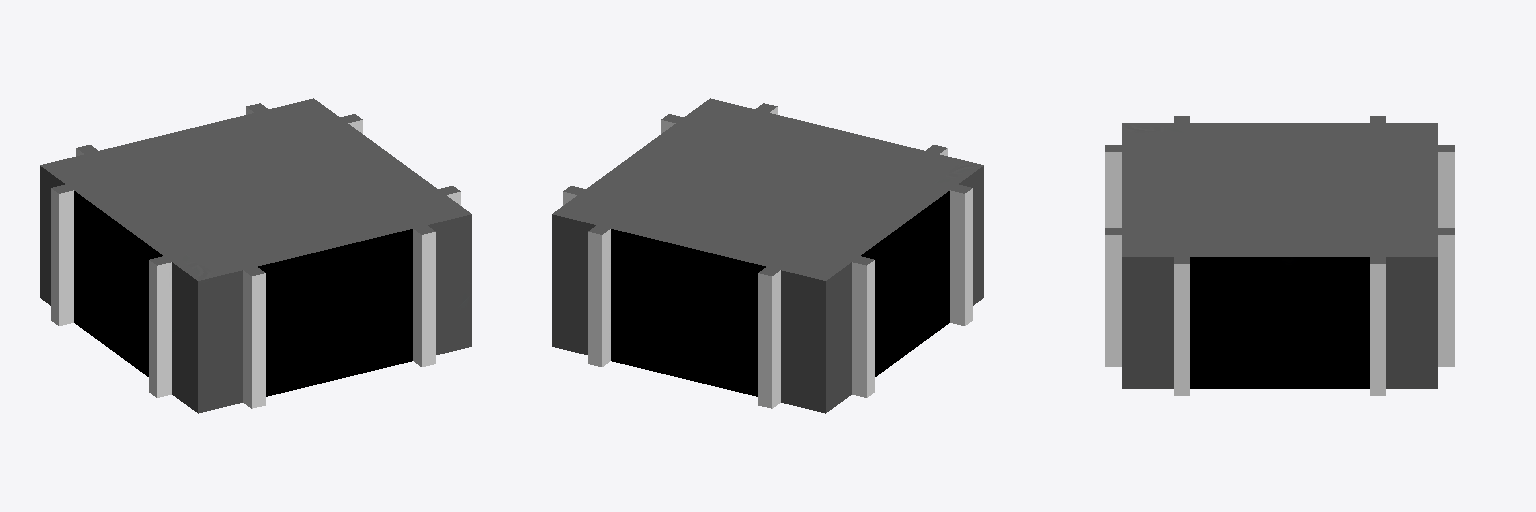
3 renders of one model, left to right at view 1: azimuth 30°, elevation 25°; view 2: azimuth 150°, elevation 25°; view 3: azimuth 270°, elevation 25°, orthographic.
Parts seen in each view (by area): view 1: Building.000; view 2: Building.000; view 3: Building.000.
Part boxes in pixels (x1,y1,x2,y2): Building.000: (40,98,471,413); Building.000: (552,98,983,413); Building.000: (1105,116,1454,395).
Bounding box in the file's own units: 2.22 × 0.9233 × 2.22.
Materials: 1 (1 with a texture image).